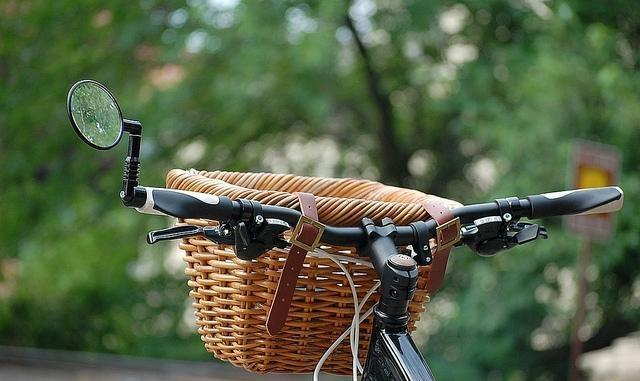bicycle: (69, 77, 624, 378)
